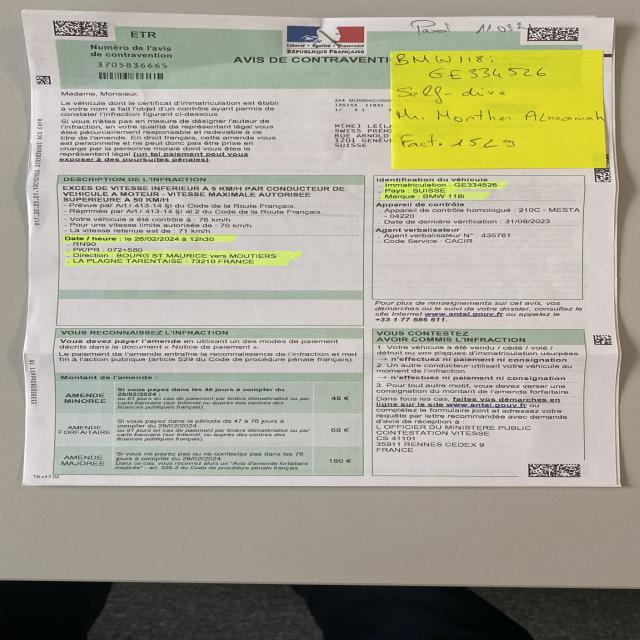paper-document-: (18, 12, 623, 486)
